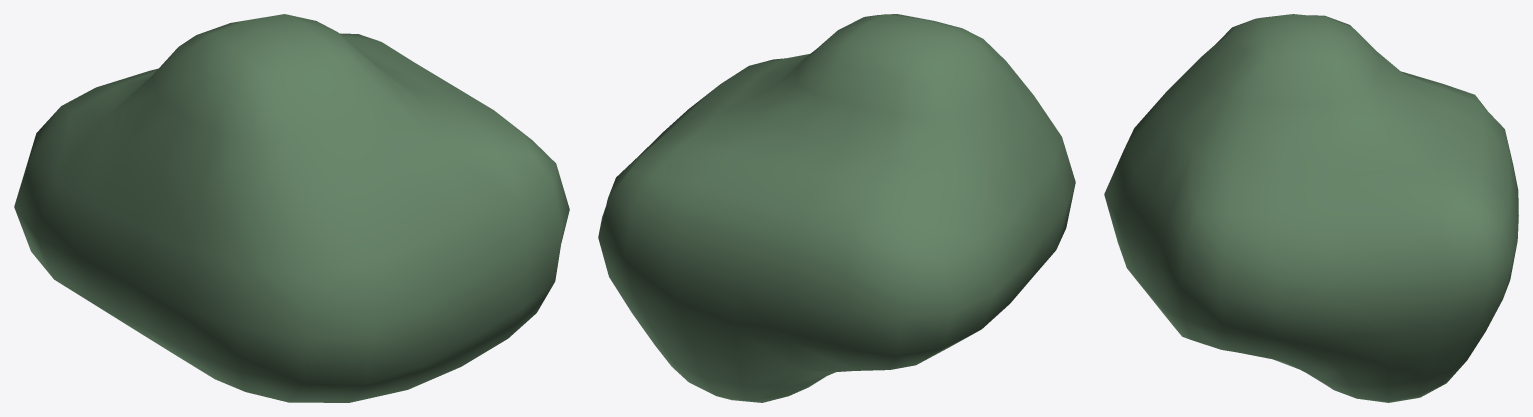
The model's file is Tree1_low.fbx.
3 renders of one model, left to right at view 1: azimuth 30°, elevation 25°; view 2: azimuth 150°, elevation 25°; view 3: azimuth 270°, elevation 25°, orthographic. The views are drawn at different scales.
Parts seen in each view (by area): view 1: Tree.001_low; view 2: Tree.001_low; view 3: Tree.001_low.
Part boxes in pixels (box(x1,y1,x2,y2)): Tree.001_low: box(14, 14, 569, 402); Tree.001_low: box(598, 14, 1075, 402); Tree.001_low: box(1104, 14, 1518, 402).
Bounding box in the file's own units: 90.5 × 78.29 × 91.3.
